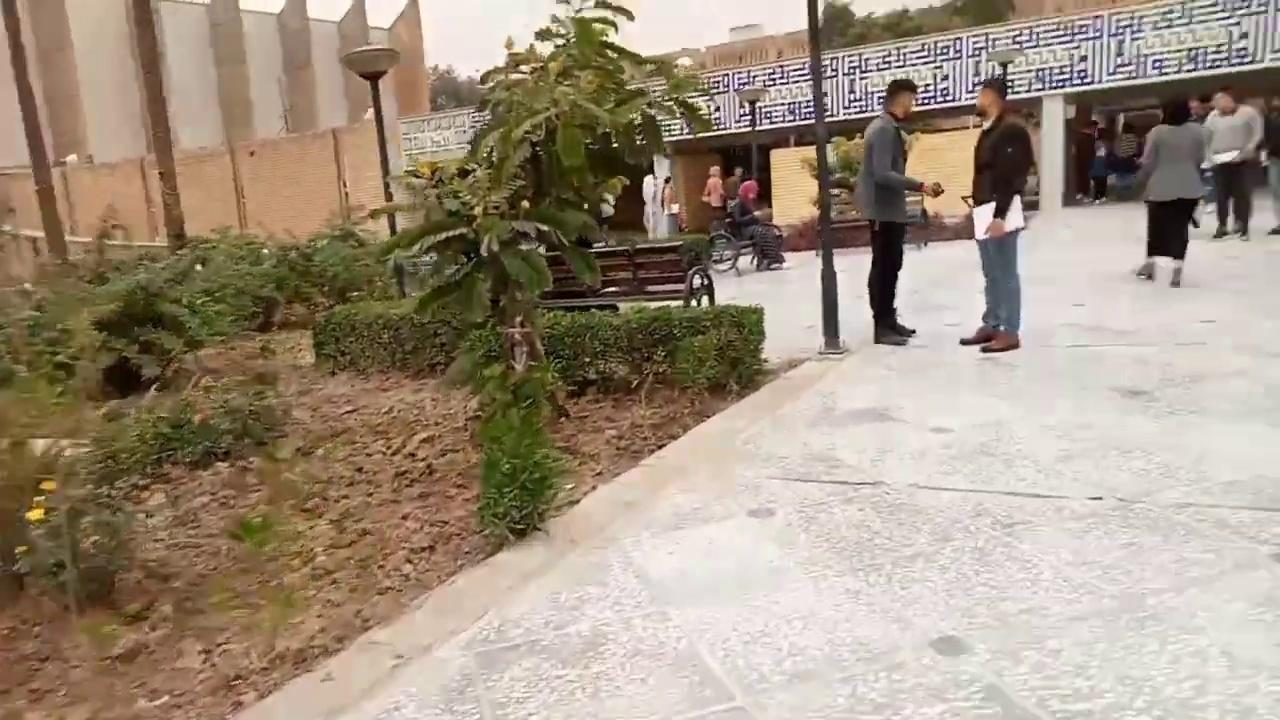person: (852, 78, 944, 345), (959, 77, 1034, 352), (1133, 94, 1207, 286), (1202, 88, 1266, 248), (701, 165, 727, 236), (641, 168, 659, 239), (661, 175, 680, 235), (597, 190, 616, 245)
tree: (365, 0, 715, 538), (0, 0, 70, 262), (124, 0, 188, 253)
